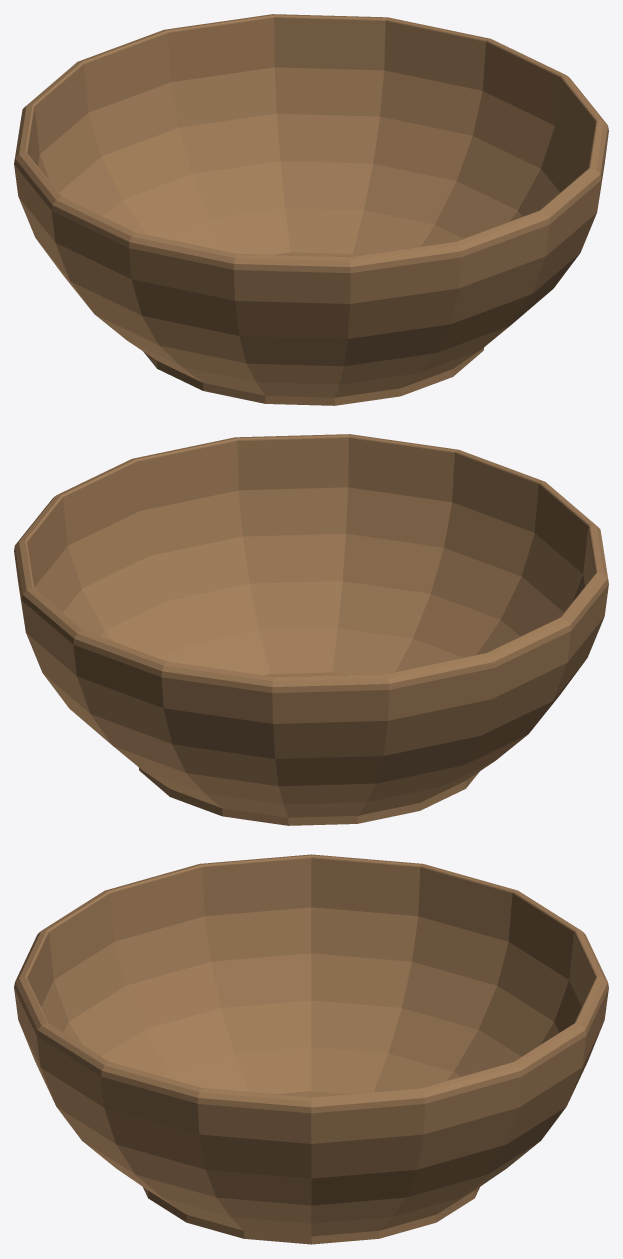
Rendered from Food Bowl Var 1.fbx.
3 renders of one model, top to bottom at view 1: azimuth 30°, elevation 25°; view 2: azimuth 150°, elevation 25°; view 3: azimuth 270°, elevation 25°, orthographic.
Parts seen in each view (by area): view 1: Food Bowl Var 1; view 2: Food Bowl Var 1; view 3: Food Bowl Var 1.
Boxes of the visible parts, x1,y1,x2,y2 form: Food Bowl Var 1: [14, 14, 608, 405]; Food Bowl Var 1: [14, 434, 608, 825]; Food Bowl Var 1: [14, 854, 608, 1244].
Bounding box in the file's own units: 47.94 × 17.18 × 47.94.
